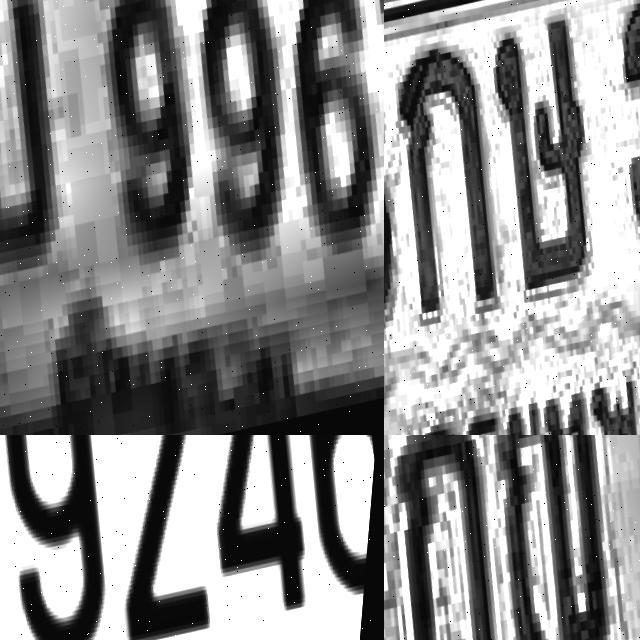license-plate: (0, 0, 384, 435), (384, 0, 640, 435), (0, 435, 384, 640), (384, 435, 640, 640)
